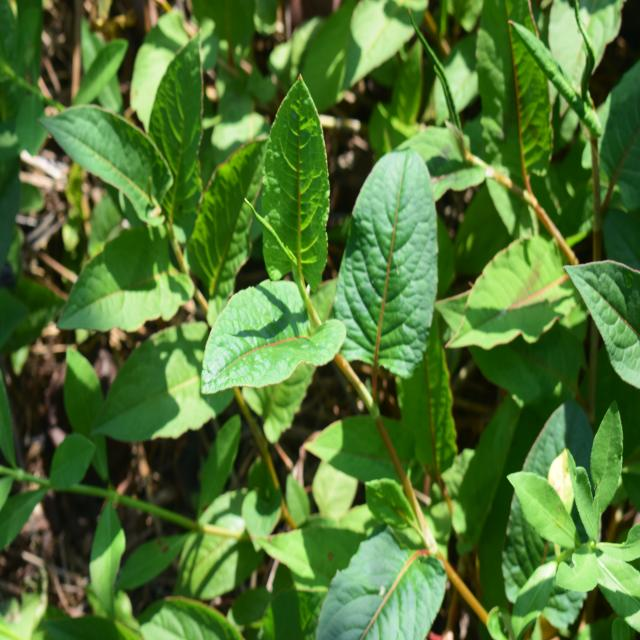Chinese_knotweed: (63, 70, 442, 473)
